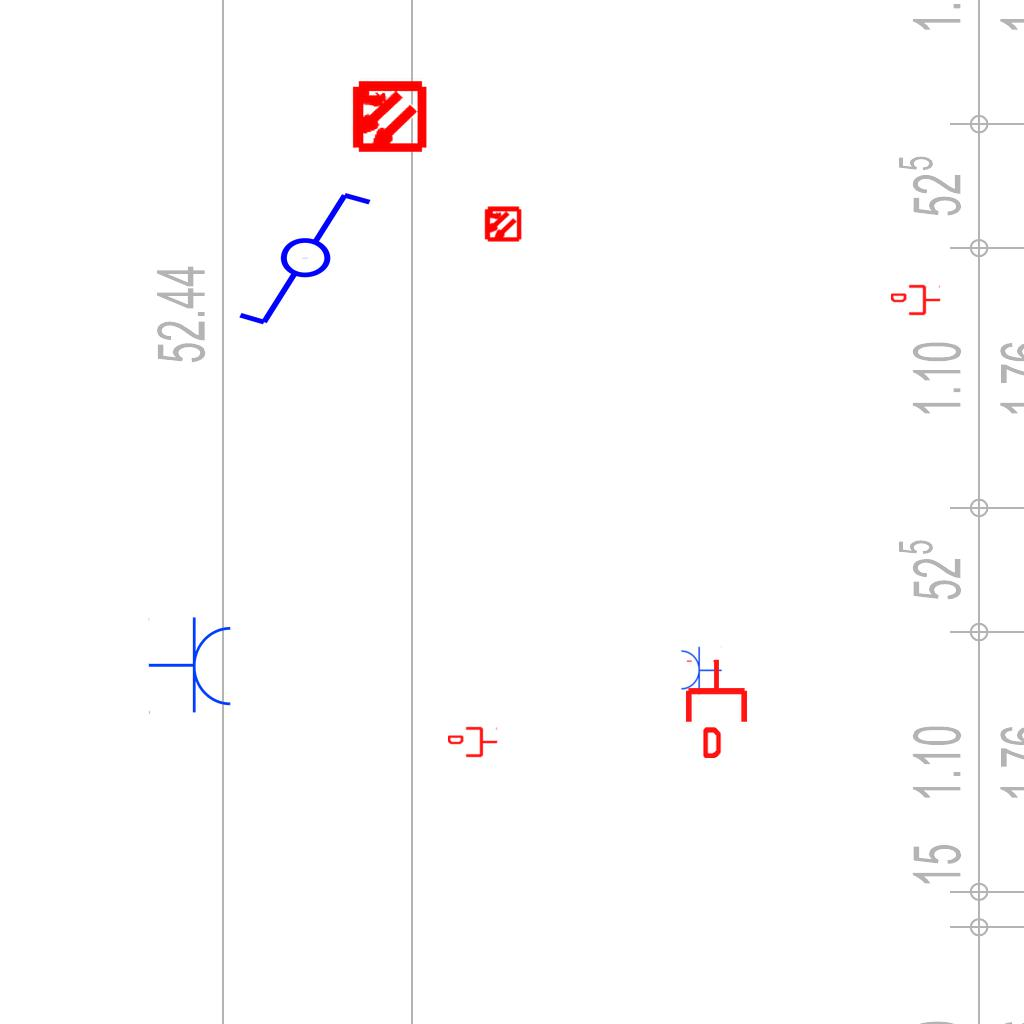Datenanschluss_einfach: (682, 658, 751, 758), (448, 725, 498, 759), (891, 283, 941, 317)
OT_Multisensormelder_(Kombination_RMO_WMD): (331, 60, 444, 173), (474, 196, 530, 252)
Schukosteckdose_einfach: (148, 616, 235, 716), (679, 645, 722, 695)
Wechselschalter: (235, 188, 392, 332)
